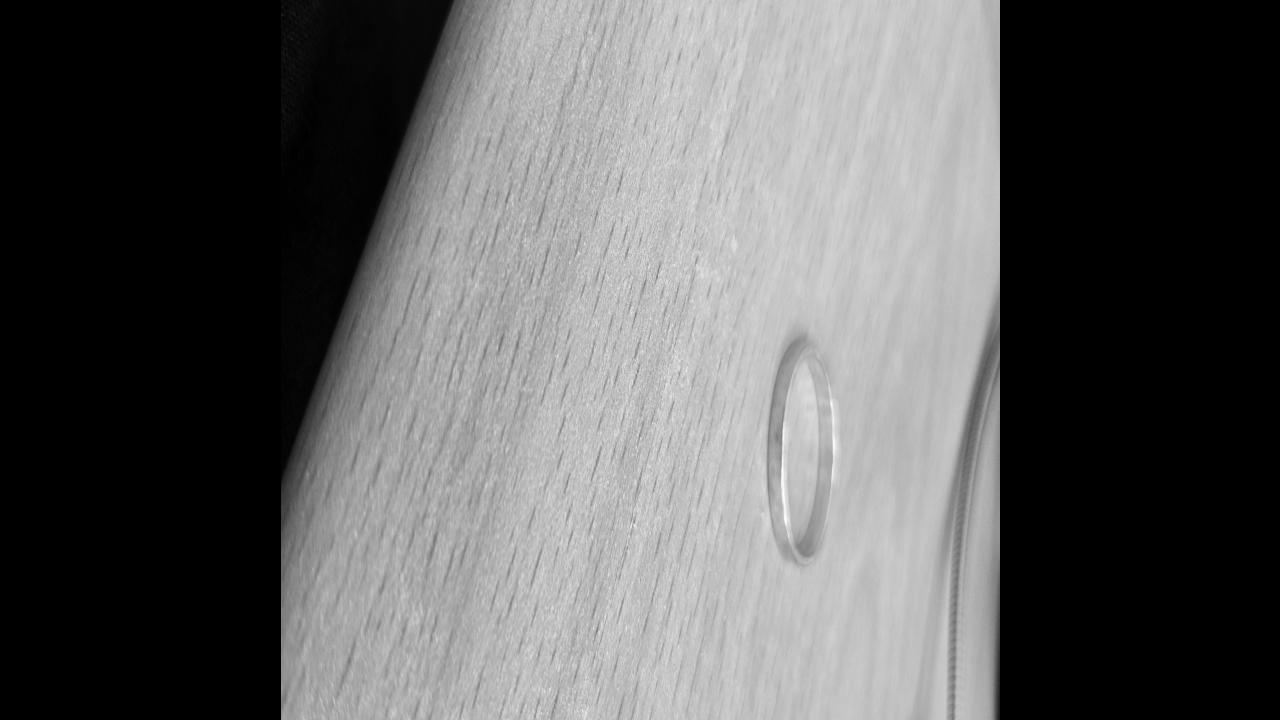ring: (766, 336, 838, 570)
